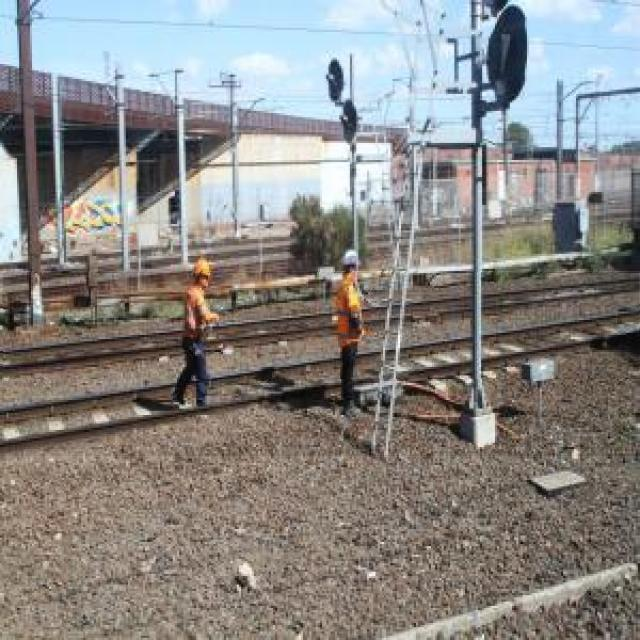rail: (1, 304, 640, 457), (5, 274, 640, 380)
